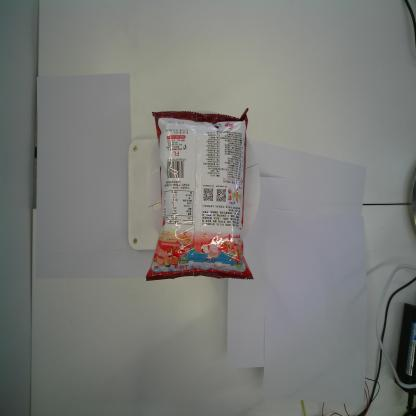Puffed Food: (145, 106, 254, 281)
